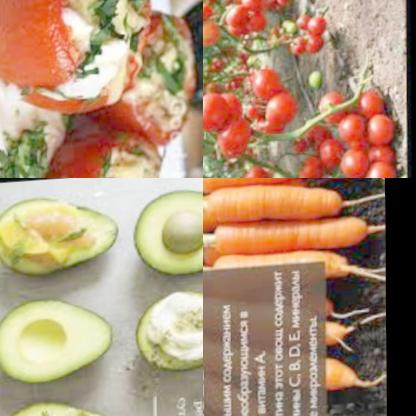avocado: (0, 287, 122, 397), (0, 183, 125, 279), (128, 293, 203, 399), (128, 183, 203, 281)
carrot: (203, 213, 383, 265), (203, 178, 372, 231), (203, 249, 376, 295), (203, 178, 379, 201)
tomato: (0, 0, 159, 120), (113, 17, 203, 160), (288, 88, 403, 178), (22, 126, 172, 178), (236, 70, 299, 141), (218, 0, 288, 45), (283, 11, 327, 62), (215, 114, 252, 162), (203, 90, 228, 142), (203, 0, 223, 61), (224, 161, 291, 178)
